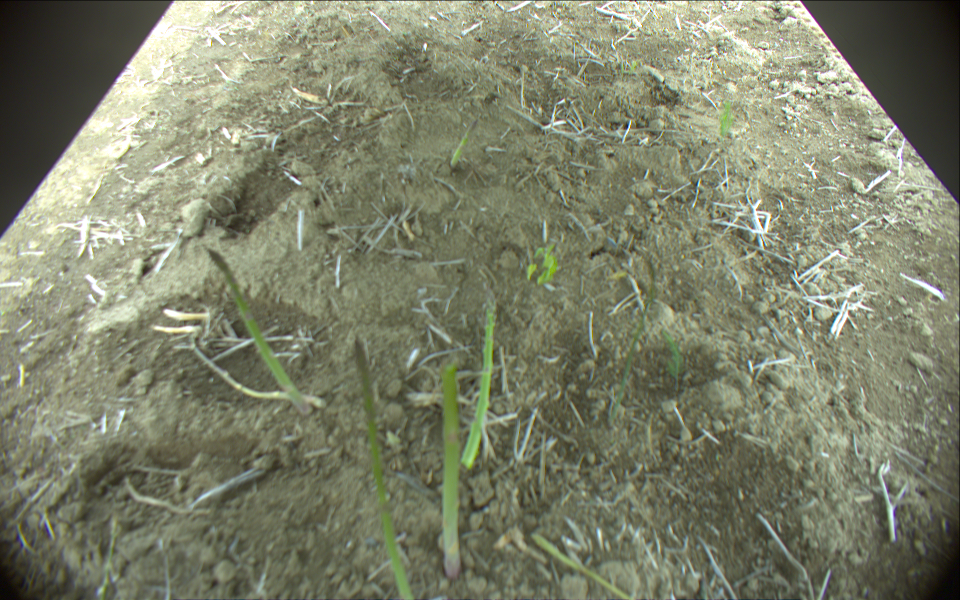aspa: (207, 244, 312, 417), (355, 339, 417, 600), (460, 305, 494, 468), (440, 363, 465, 577), (447, 111, 481, 170)
